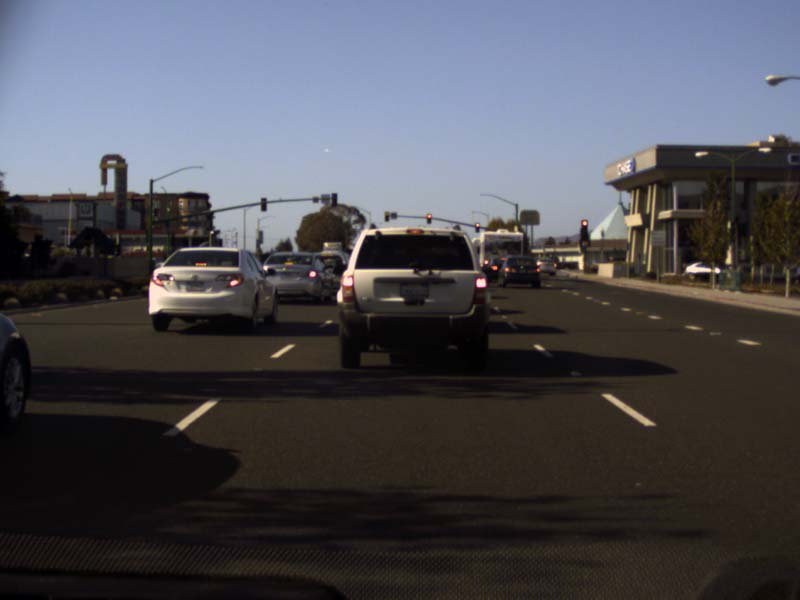Red: (474, 222, 480, 232), (384, 210, 389, 221), (426, 213, 431, 223), (581, 219, 587, 227)
